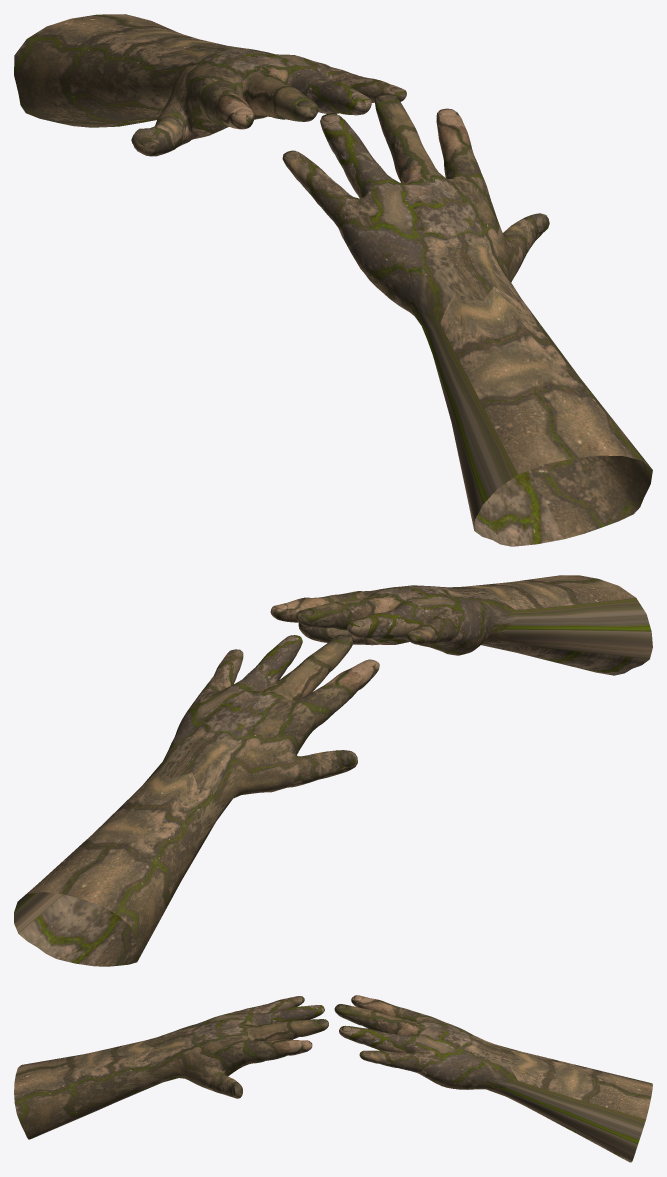
Rendered from hands_000008.obj.
3 views of the same model, one above another, from view 1: azimuth 30°, elevation 25°; view 2: azimuth 150°, elevation 25°; view 3: azimuth 270°, elevation 25° (orthographic). The views are drawn at different scales.
Visible parts, largest first — view 1: hand.001_Mesh.001, hand_Mesh; view 2: hand_Mesh, hand.001_Mesh.001; view 3: hand_Mesh, hand.001_Mesh.001.
Part boxes in pixels (x1,y1,x2,y2): hand.001_Mesh.001: [282, 93, 652, 546]; hand_Mesh: [14, 14, 406, 156]; hand_Mesh: [14, 635, 379, 966]; hand.001_Mesh.001: [270, 575, 652, 675]; hand_Mesh: [334, 995, 652, 1162]; hand.001_Mesh.001: [14, 996, 328, 1139].
Bounding box in the file's own units: 1.58 × 1.4 × 6.12.
1 material, 1 textured.
